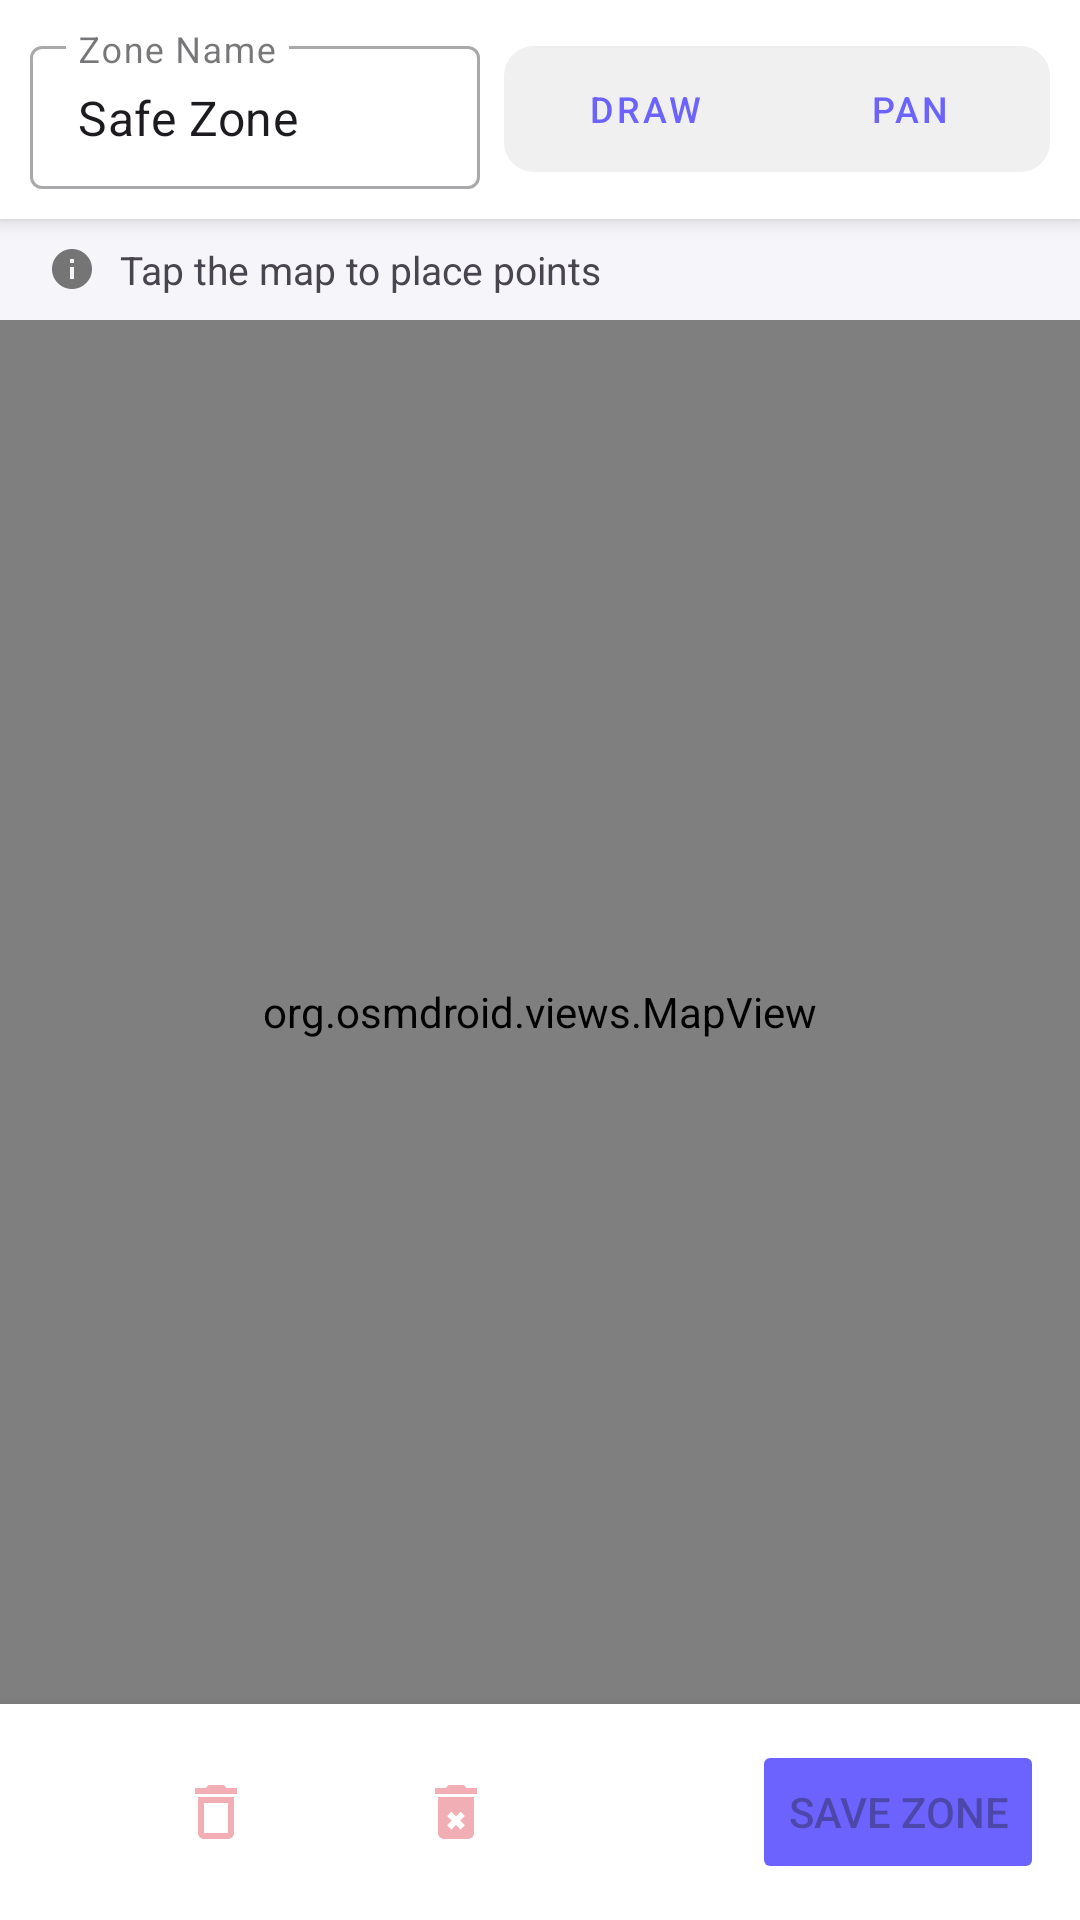

Icon click points for this 1080 × 1920 phone screenshot, format [x,y]:
delete: [216,1812]
delete forever: [456,1812]
info: [72,269]
